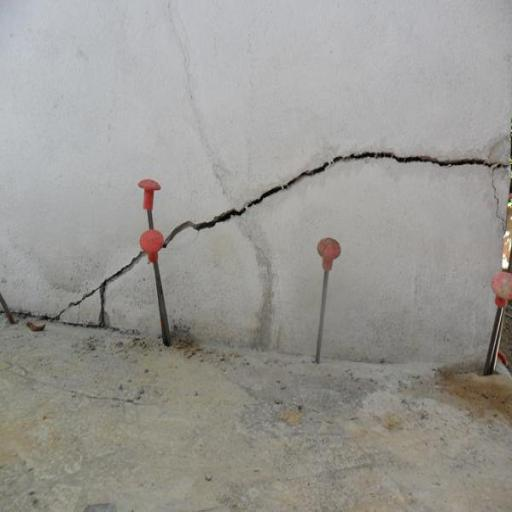spalling: (165, 145, 510, 251), (48, 251, 146, 325)
